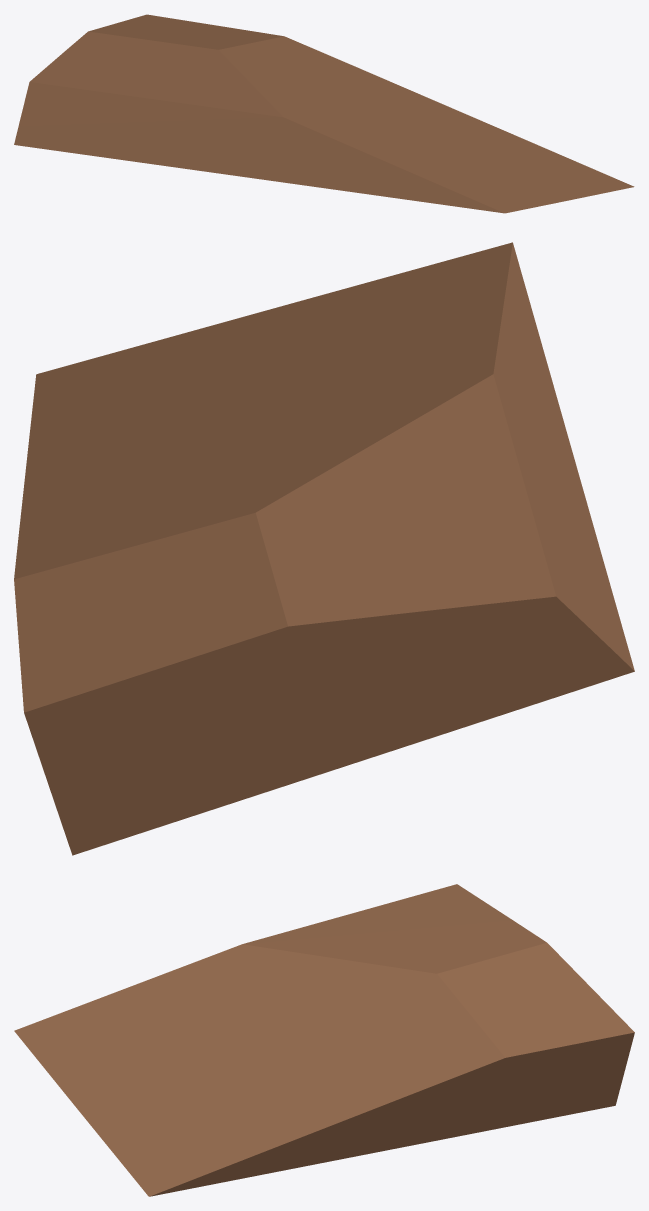
The model's file is WoodCellCube_003_cell.fbx.
The picture shows the model from 3 angles, top to bottom: view 1: azimuth 30°, elevation 25°; view 2: azimuth 150°, elevation 25°; view 3: azimuth 270°, elevation 25°; orthographic projection. The views are drawn at different scales.
Visible parts, largest first — view 1: WoodCellCube_003_cell; view 2: WoodCellCube_003_cell; view 3: WoodCellCube_003_cell.
Part boxes in pixels (x1,y1,x2,y2): WoodCellCube_003_cell: (14, 14, 634, 213); WoodCellCube_003_cell: (14, 242, 634, 855); WoodCellCube_003_cell: (14, 884, 634, 1196).
Size of the model in its own units: 1.14 by 0.2821 by 0.9943.
1 material, 1 textured.
